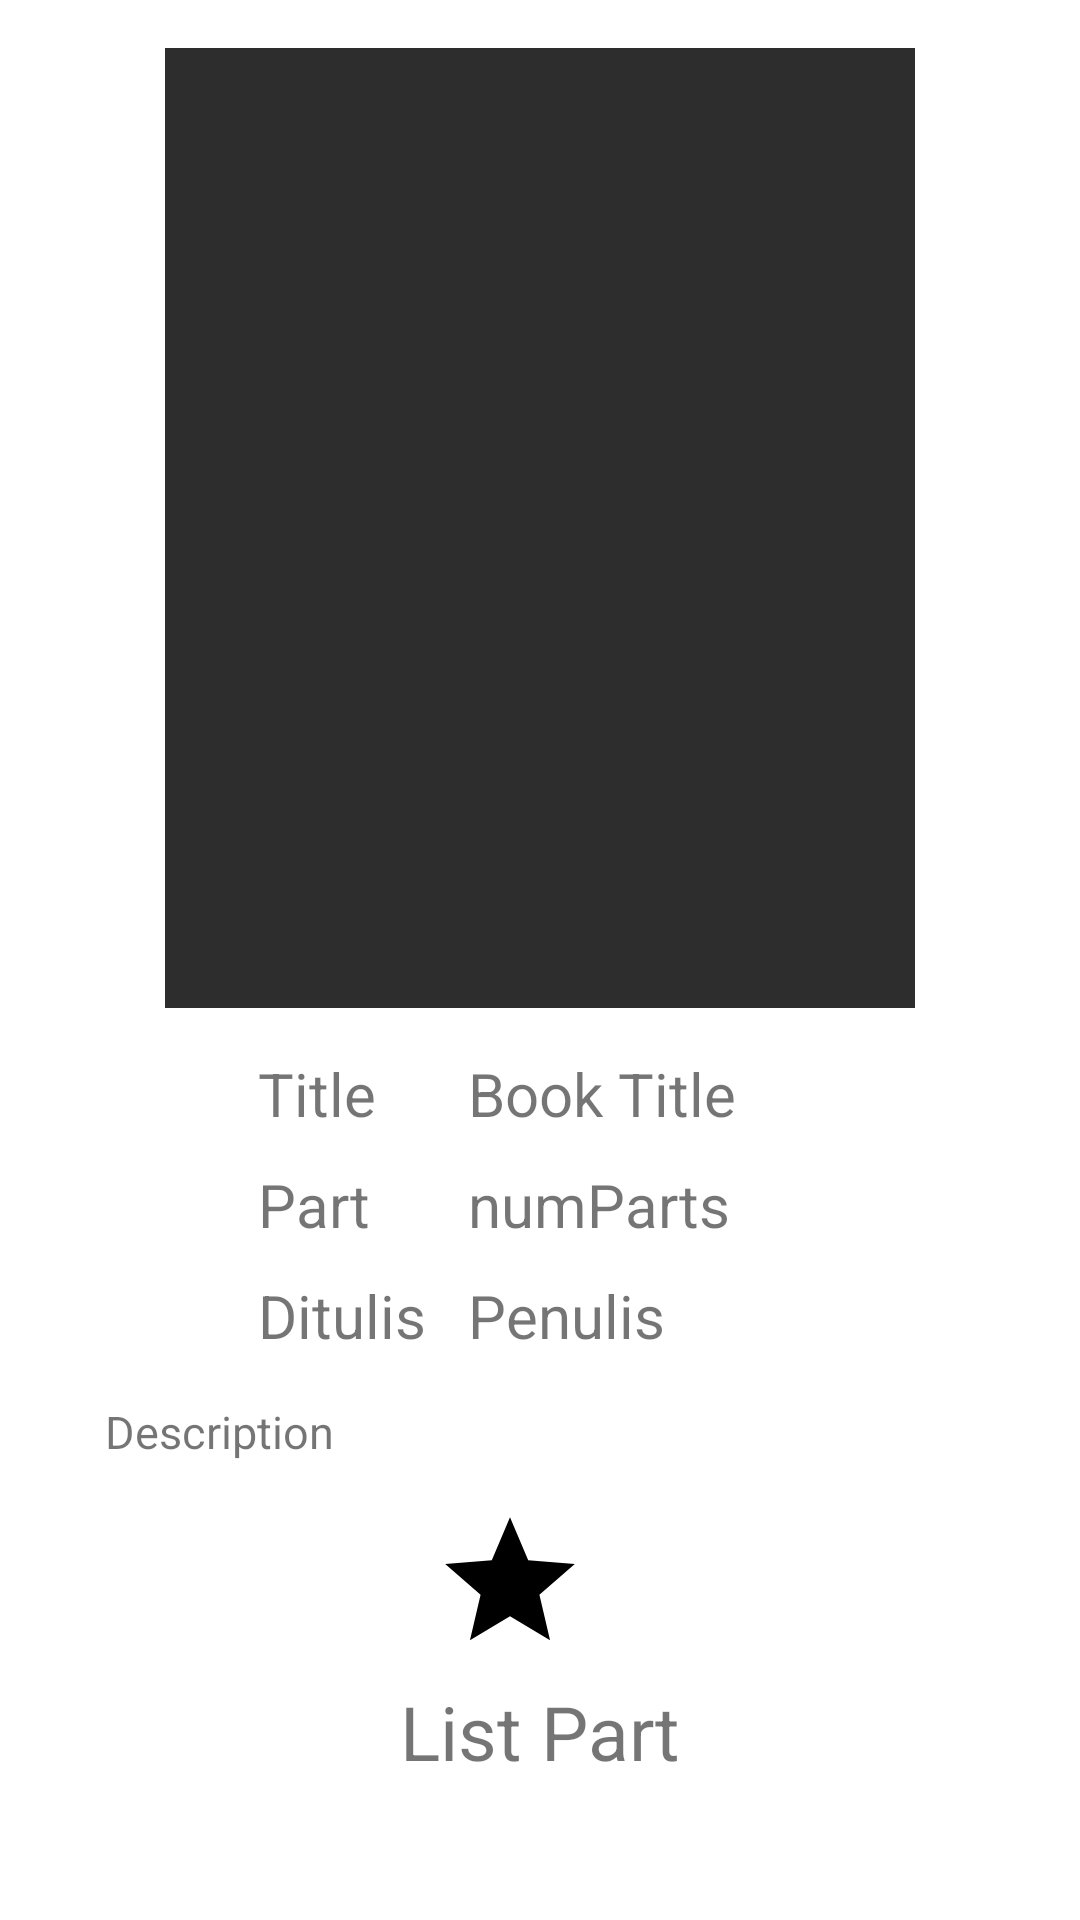

Point at icon controls on the screen. Image size 1080*1920, points as [x,y].
star: [510,1578]
